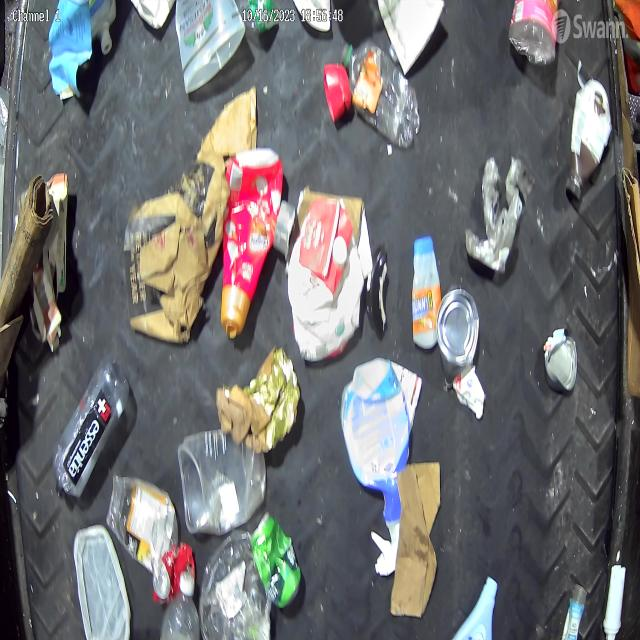can: (254, 514, 302, 610), (436, 288, 480, 389), (153, 544, 196, 604), (544, 327, 578, 395)
milk_jug: (287, 196, 364, 362)
non_white_jug: (219, 147, 284, 340)
plastic_bottle: (54, 354, 128, 500), (341, 41, 421, 148), (160, 571, 200, 640)
